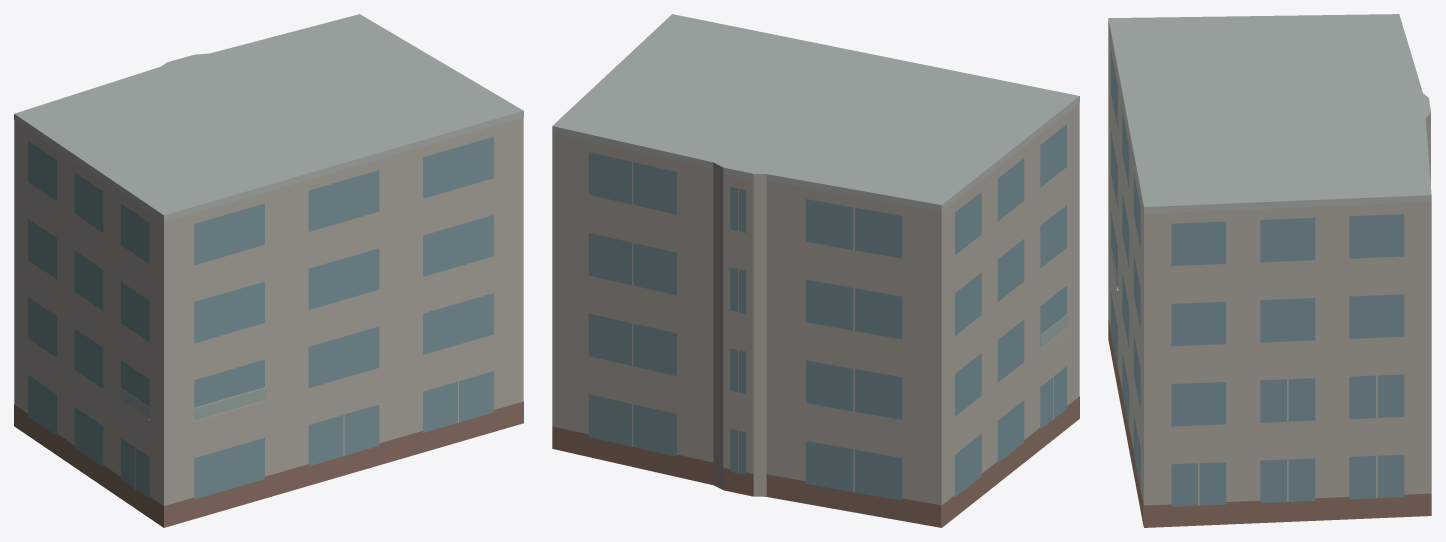
File: survey-upis-32922750.glb
The picture shows the model from 3 angles, left to right: view 1: azimuth 30°, elevation 25°; view 2: azimuth 150°, elevation 25°; view 3: azimuth 270°, elevation 25°; orthographic projection. The views are drawn at different scales.
Parts seen in each view (by area): view 1: survey-upis-32922750.tmp; view 2: survey-upis-32922750.tmp; view 3: survey-upis-32922750.tmp.
Part boxes in pixels (x1,y1,x2,y2): survey-upis-32922750.tmp: [14, 14, 523, 527]; survey-upis-32922750.tmp: [552, 14, 1079, 527]; survey-upis-32922750.tmp: [1108, 14, 1431, 527].
Bounding box in the file's own units: 15.37 × 11.9 × 10.88.
